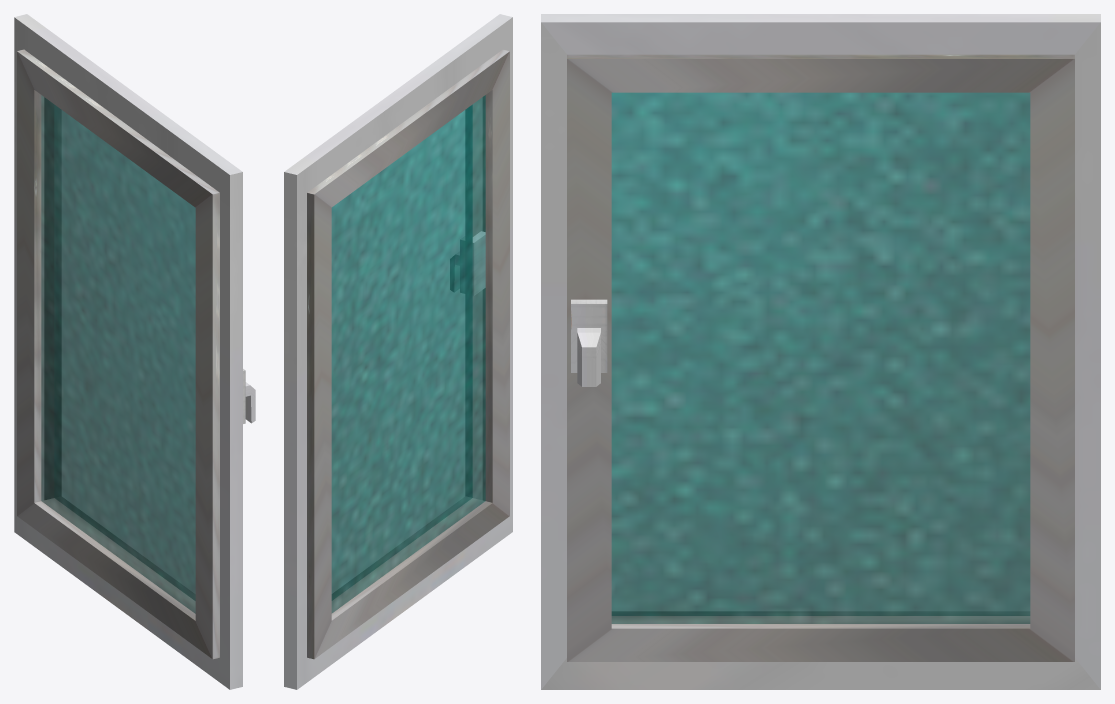
Rendered from window.FBX.
3 views of the same model, side by side, from view 1: azimuth 30°, elevation 25°; view 2: azimuth 150°, elevation 25°; view 3: azimuth 270°, elevation 25° (orthographic). The views are drawn at different scales.
Parts seen in each view (by area): view 1: Object003, Box002, Object004, Object001; view 2: Object003, Box002, Object004, Box003; view 3: Object003, Box002, Object004, Box003, Object001.
Boxes of the visible parts, x1=… form: Object003: x1=41, y1=95, x2=195, y2=613; Box002: x1=17, y1=49, x2=219, y2=659; Object004: x1=14, y1=14, x2=242, y2=689; Object001: x1=245, y1=382, x2=255, y2=423; Object003: x1=331, y1=95, x2=485, y2=612; Box002: x1=307, y1=49, x2=509, y2=659; Object004: x1=284, y1=14, x2=512, y2=689; Box003: x1=460, y1=231, x2=485, y2=295; Object003: x1=611, y1=92, x2=1030, y2=623; Box002: x1=567, y1=54, x2=1074, y2=661; Object004: x1=541, y1=14, x2=1100, y2=689; Box003: x1=571, y1=299, x2=607, y2=372; Object001: x1=577, y1=328, x2=600, y2=386.
Bounding box in the file's own units: 17.92 × 181 × 137.
Materials: 4 (4 with a texture image).
